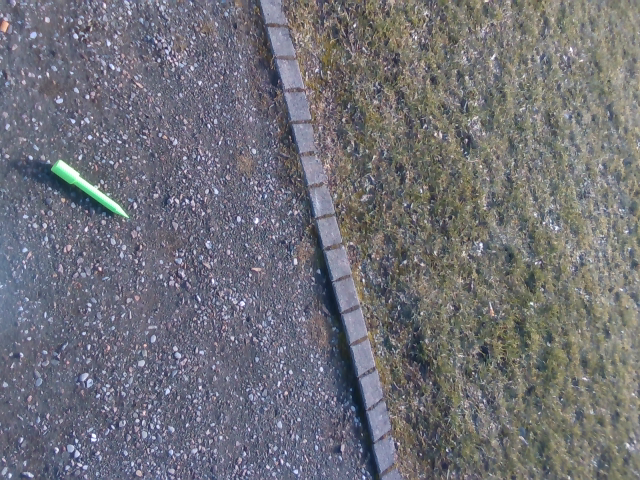Probe: (47, 155, 138, 224)
